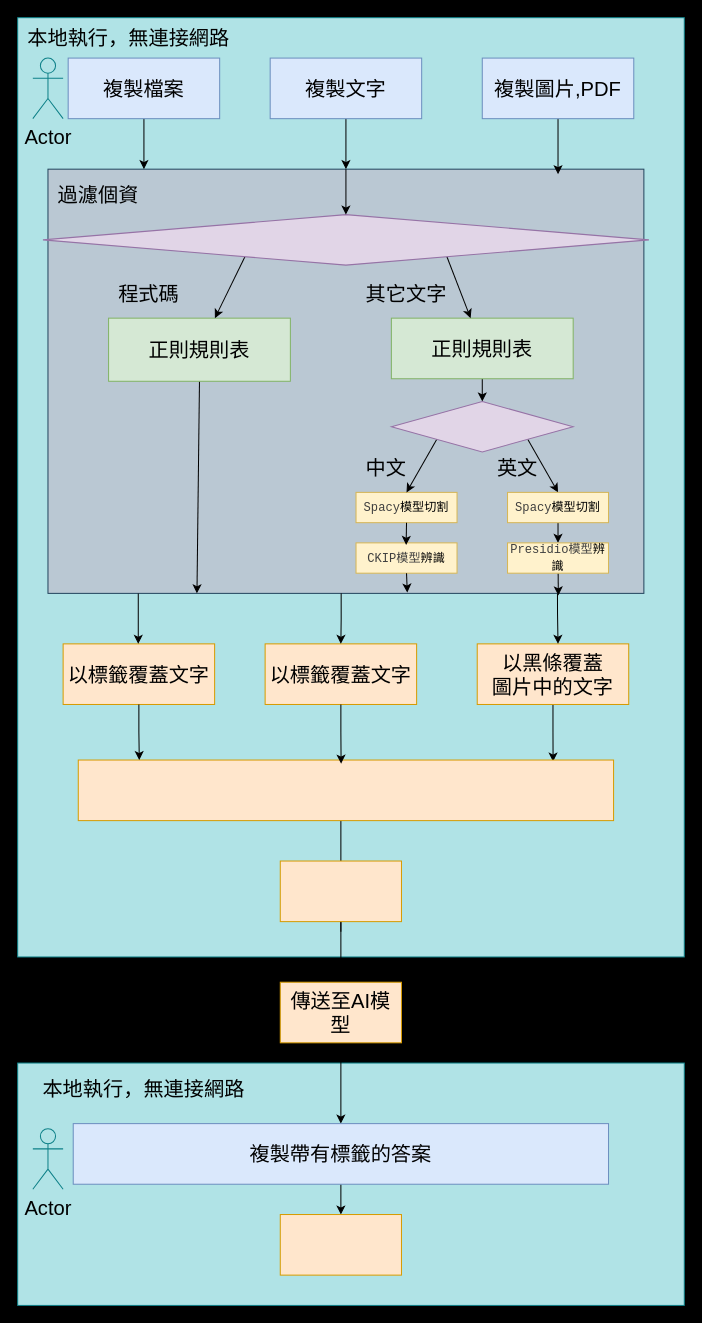
Some shapes in this 702 by 1323 pixel diagram are drawn without their labels. The centre of each missing label's shape, as x and y in pixels:
"依 文字 來源之檔案副檔名判斷所屬類別" belongs at point 345,239.
"將標籤替換成原個資" belongs at point 340,1244.
"文字類型判斷" belongs at point 481,426.
"覆蓋原windos剪貼簿內容" belongs at point 345,790.
"貼上輸入框" belongs at point 340,891.
